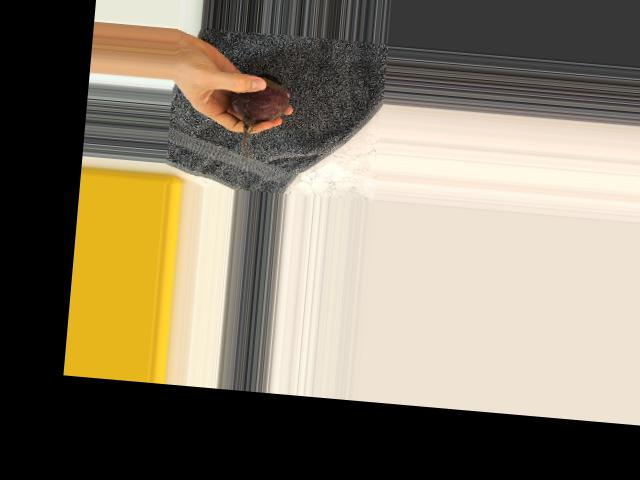beet: (226, 70, 291, 162)
